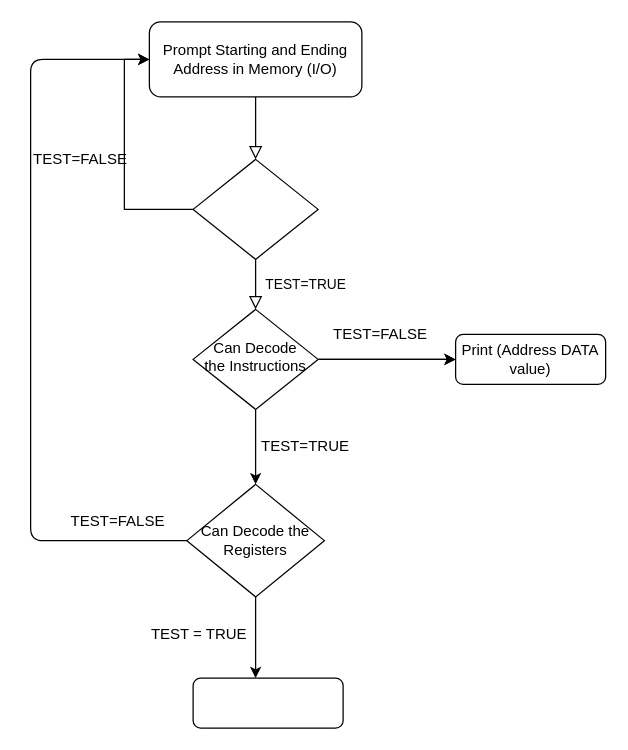
This 628x750 diagram has some shape labels left out. Each missing label, with the centre of its shape:
Displays instruction: (267,702)
Is address correct?: (255,208)
